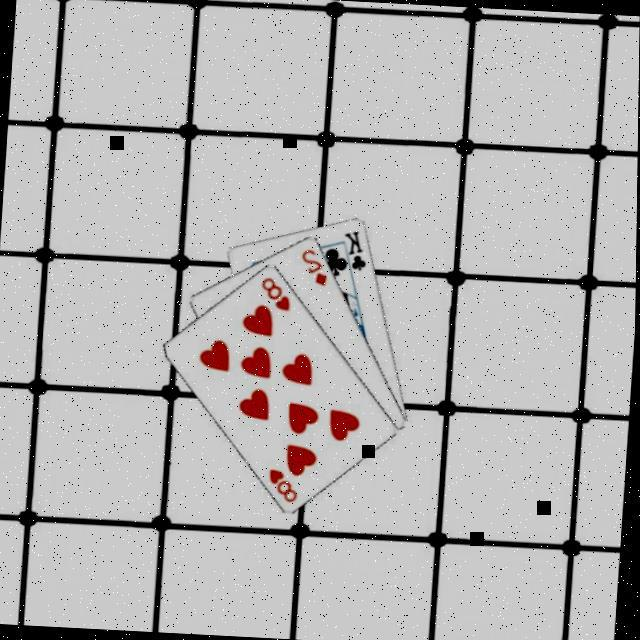2D: (300, 244, 334, 288)
8H: (260, 273, 298, 313), (267, 464, 305, 504)
KC: (340, 226, 374, 280)
